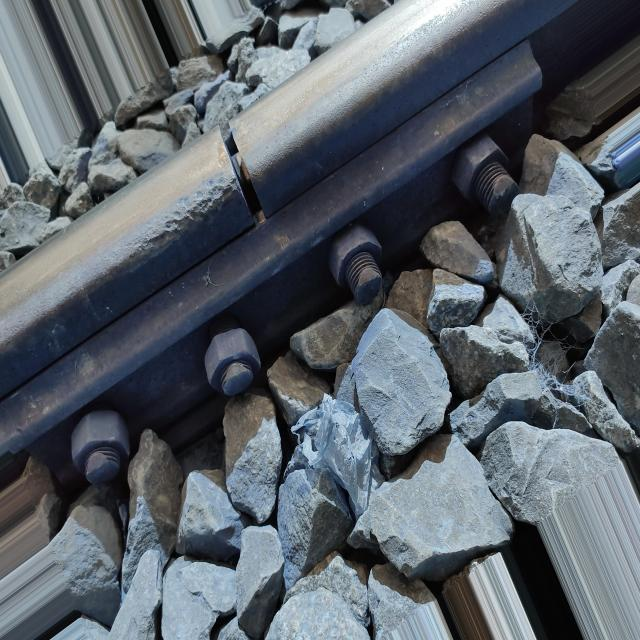Good Joint: (7, 42, 546, 482)
